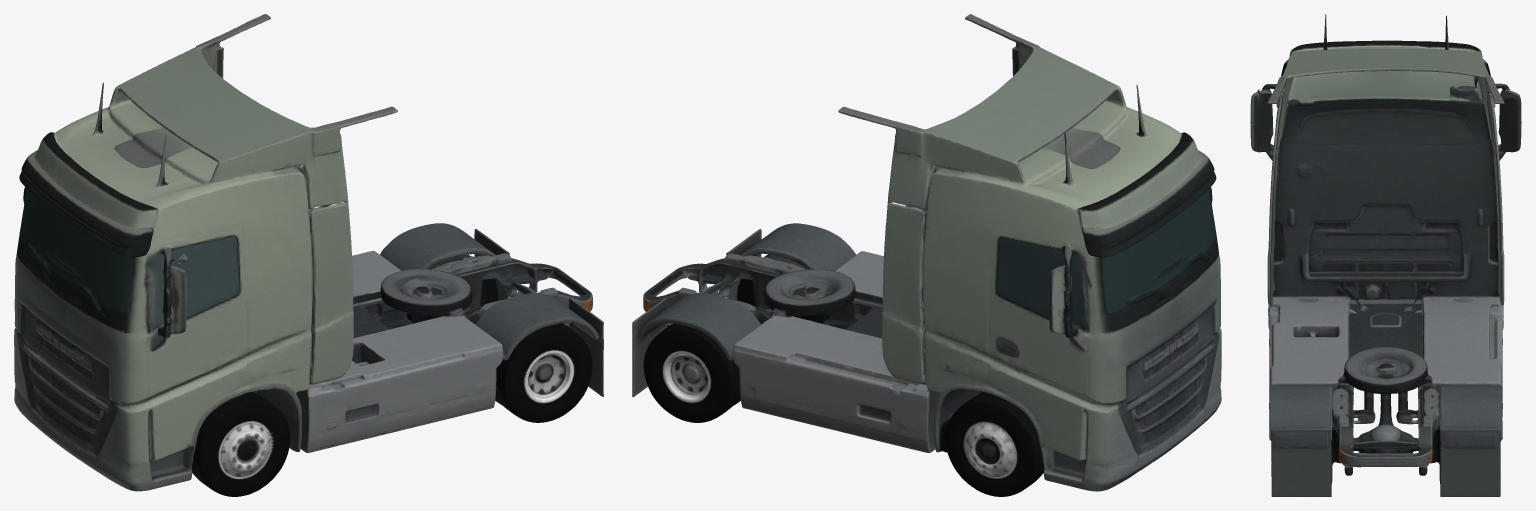
The model's file is Meshy_AI_Volvo_FH_Globetrotter_0923130558_texture.fbx.
3 renders of one model, left to right at view 1: azimuth 30°, elevation 25°; view 2: azimuth 150°, elevation 25°; view 3: azimuth 270°, elevation 25°, orthographic. The views are drawn at different scales.
Visible parts, largest first — view 1: Mesh_0; view 2: Mesh_0; view 3: Mesh_0.
Part boxes in pixels (bbox=[...]): Mesh_0: bbox=[14, 14, 603, 496]; Mesh_0: bbox=[632, 14, 1221, 496]; Mesh_0: bbox=[1250, 14, 1521, 496].
Bounding box in the file's own units: 190 × 125 × 96.6.
1 material, 1 textured.
